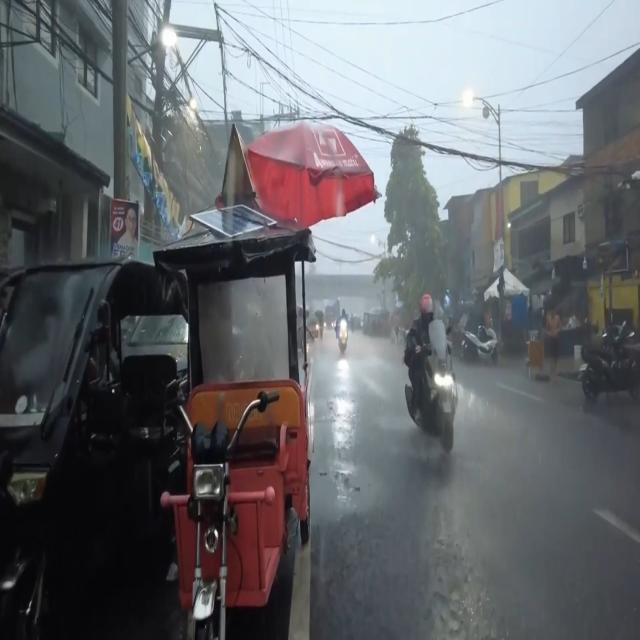half: (419, 291, 435, 323)
